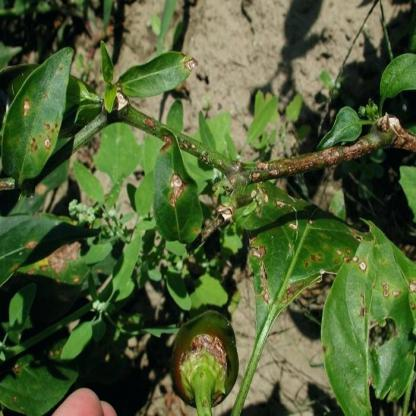bell pepper leaf spot: (239, 180, 364, 331), (321, 218, 413, 415), (2, 47, 76, 199), (148, 127, 206, 246), (119, 45, 201, 112)
